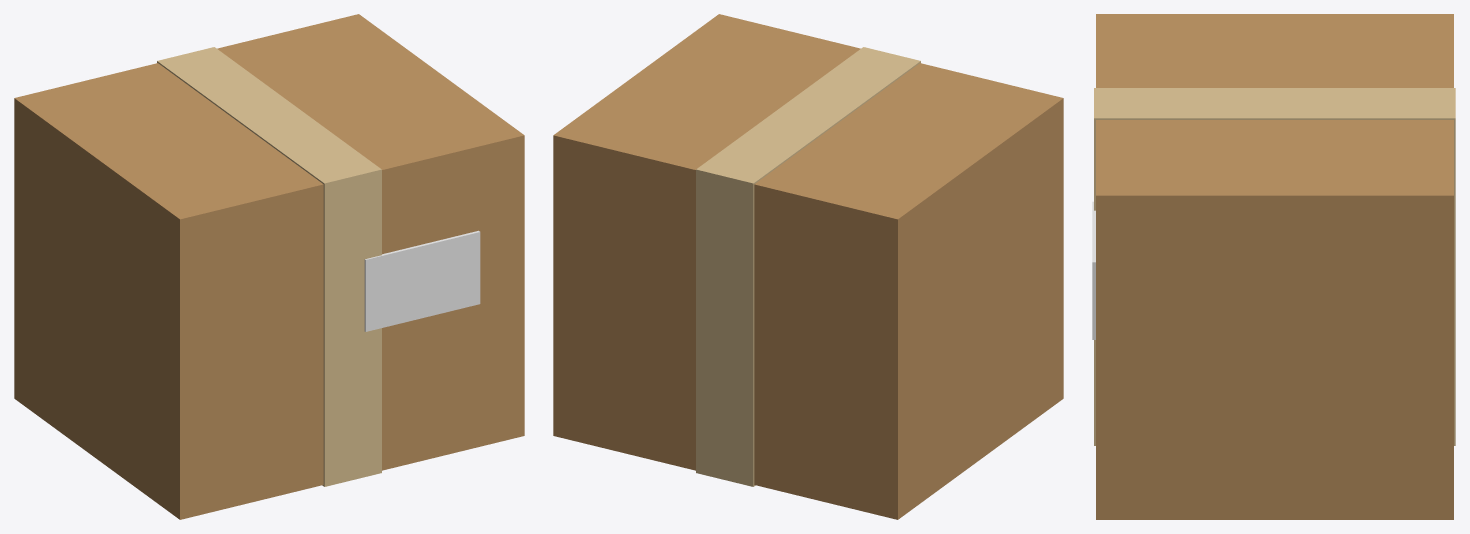
3 renders of one model, left to right at view 1: azimuth 30°, elevation 25°; view 2: azimuth 150°, elevation 25°; view 3: azimuth 270°, elevation 25°, orthographic. The views are drawn at different scales.
Visible parts, largest first — view 1: box; view 2: box; view 3: box.
Part boxes in pixels (<box>): box: <box>14,14,524,519</box>; box: <box>553,14,1063,519</box>; box: <box>1092,14,1455,519</box>.
Size of the model in its own units: 0.6 by 0.505 by 0.5075.
